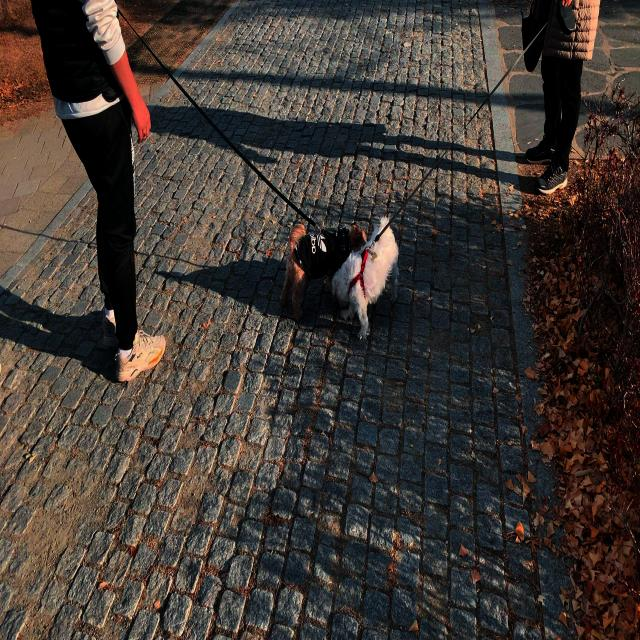Leashed_Dog: (97, 0, 368, 322), (330, 15, 565, 342)
